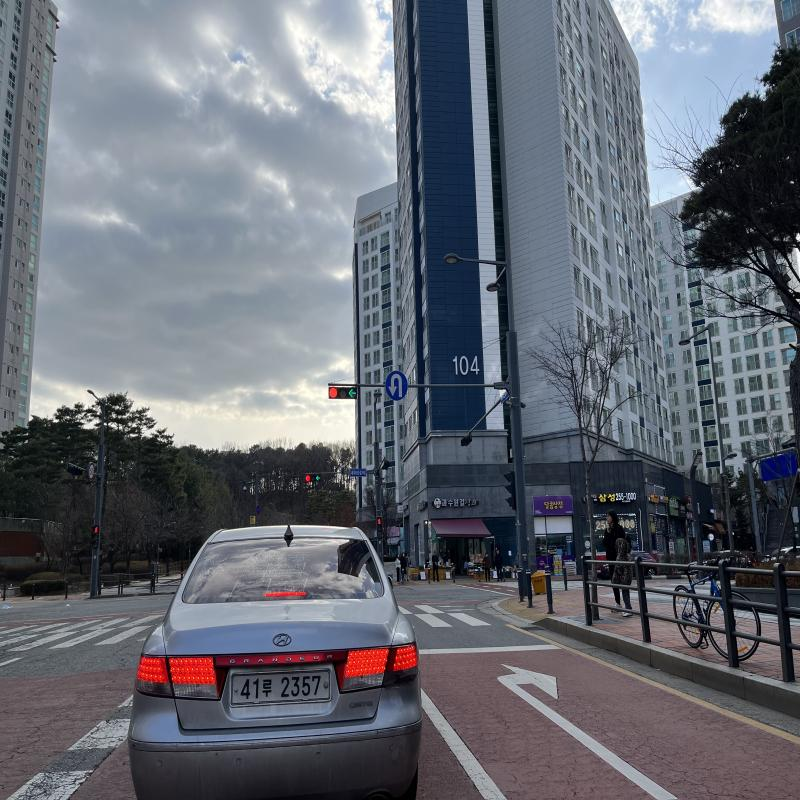left: (347, 388, 357, 399)
